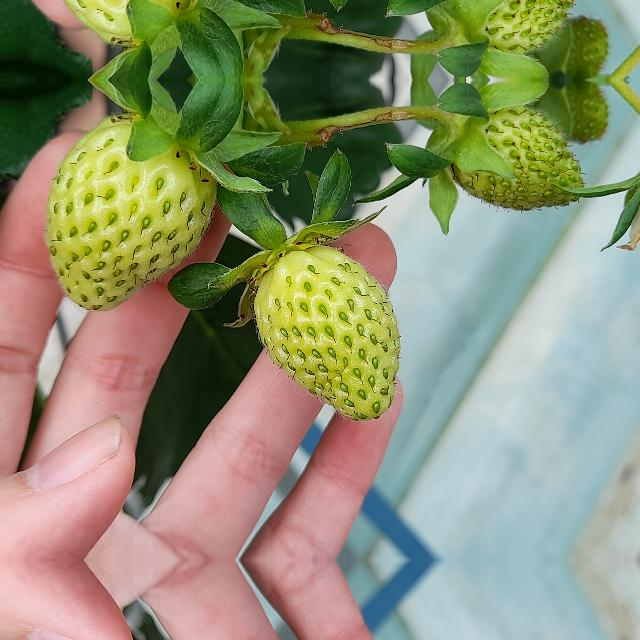Health_25: (40, 105, 220, 317), (254, 244, 401, 421), (447, 99, 589, 213), (40, 0, 220, 55), (447, 0, 589, 61)
